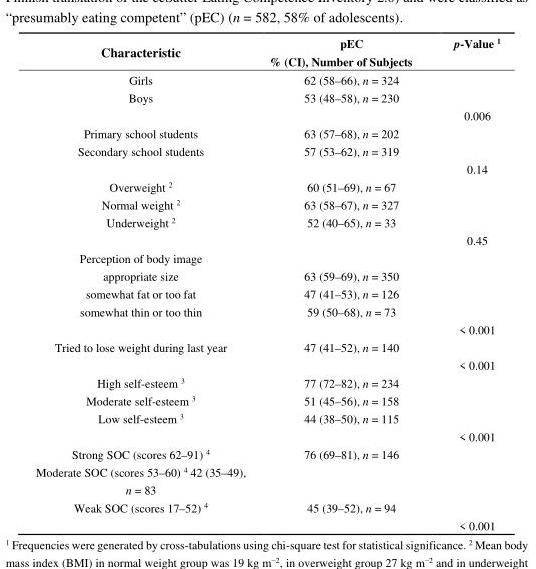table: (34, 34, 499, 532)
table column: (34, 34, 256, 532), (256, 34, 425, 532), (425, 34, 499, 532)
table column header: (34, 34, 499, 70)
table projected row header: (34, 462, 499, 497), (34, 248, 499, 266)
table row: (34, 462, 499, 497), (34, 51, 499, 70), (34, 70, 499, 88), (34, 105, 499, 123), (34, 123, 499, 141), (34, 141, 499, 159), (34, 159, 499, 177), (34, 194, 499, 212), (34, 212, 499, 230), (34, 230, 499, 248), (34, 248, 499, 266), (34, 266, 499, 284), (34, 301, 499, 319), (34, 319, 499, 337), (34, 337, 499, 355), (34, 355, 499, 373), (34, 390, 499, 408), (34, 408, 499, 426), (34, 426, 499, 444), (34, 444, 499, 462), (34, 497, 499, 515), (34, 34, 499, 51), (34, 88, 499, 105), (34, 177, 499, 194), (34, 284, 499, 301), (34, 373, 499, 390), (34, 515, 499, 532)
table spanning cell: (34, 34, 256, 70), (34, 141, 256, 177), (34, 212, 256, 248), (34, 301, 256, 337), (34, 337, 256, 373), (34, 408, 256, 444), (34, 88, 256, 123), (34, 497, 256, 532), (256, 51, 499, 70)
